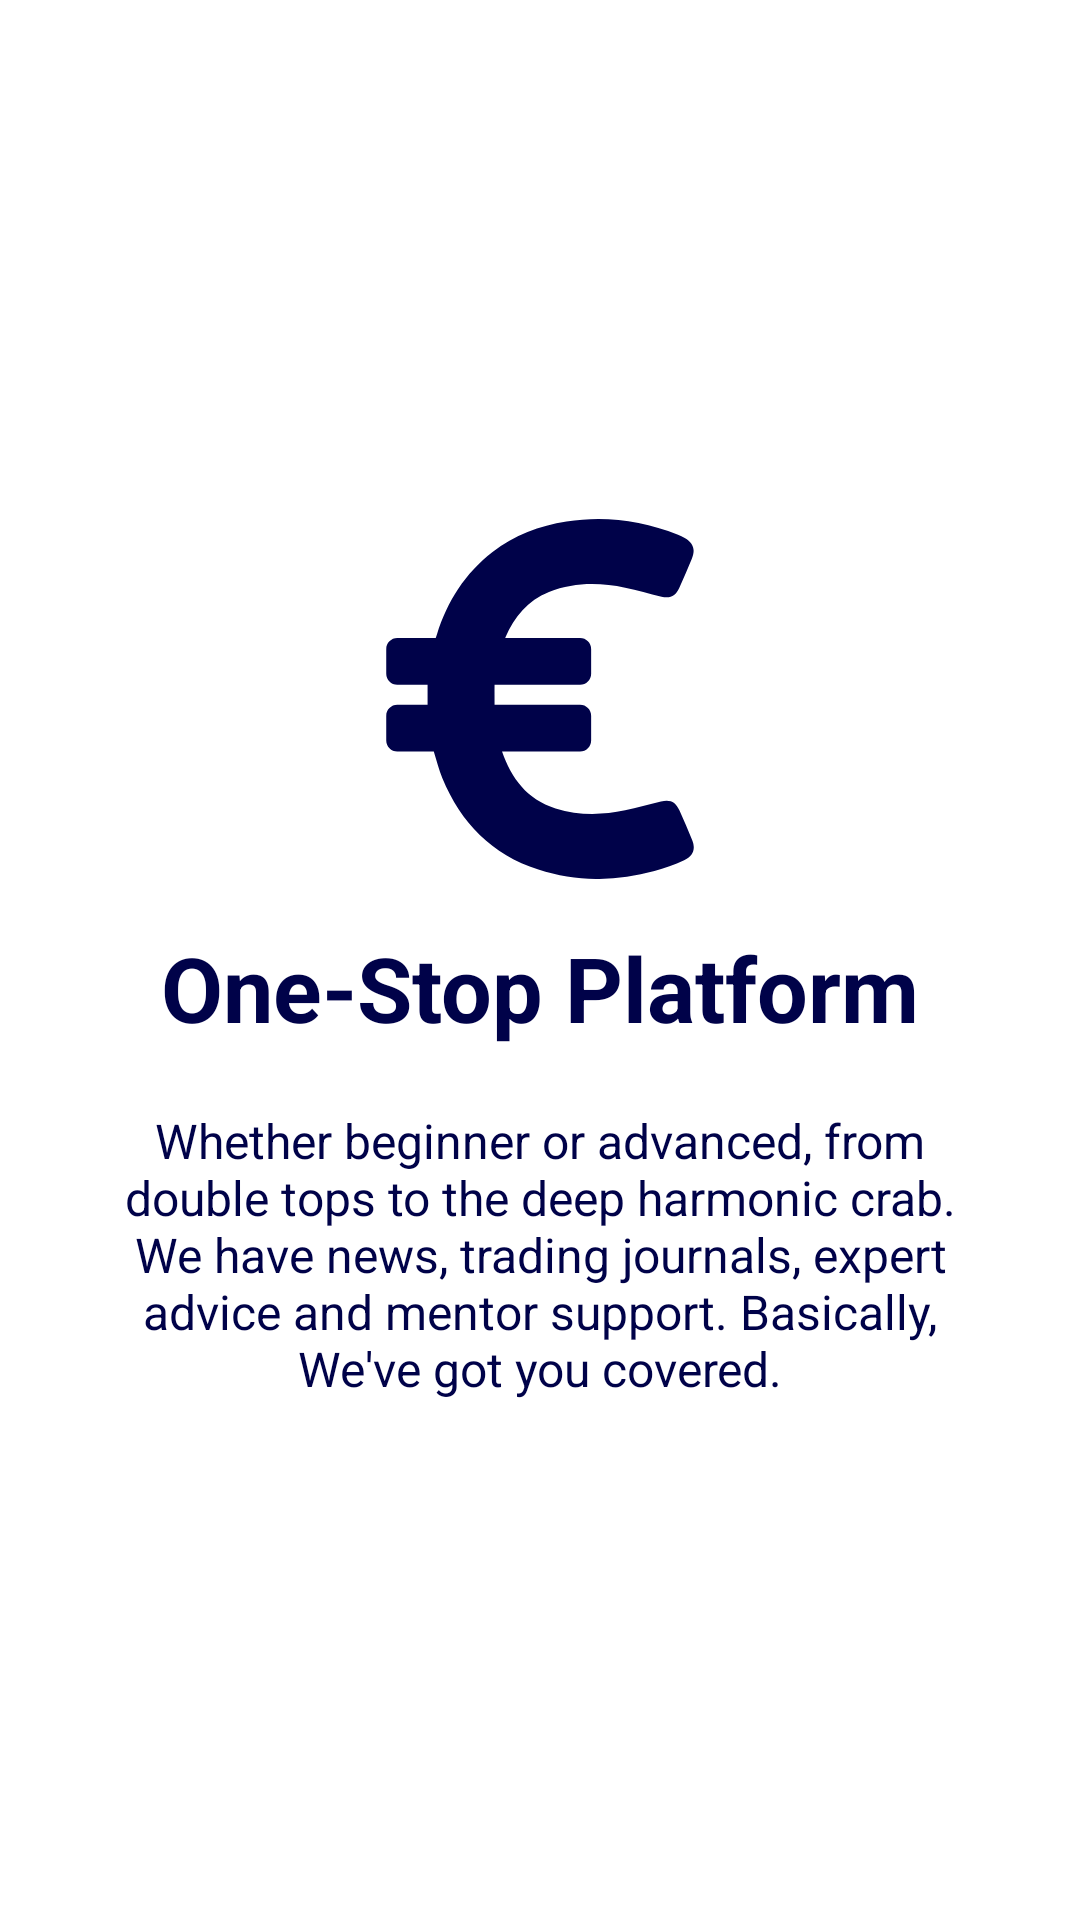

Point at icon controls on the screen. Image size 1080 x 1920, points as [x,y].
euro: [540,699]
